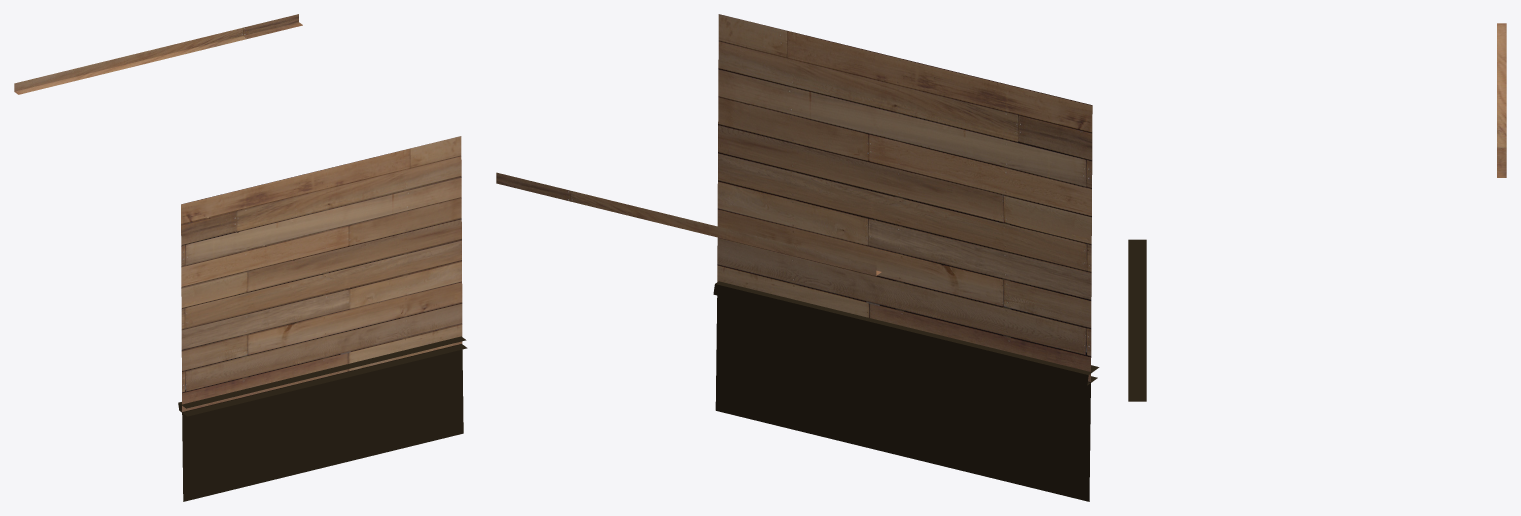
The model's file is wall_back 1.FBX.
3 renders of one model, left to right at view 1: azimuth 30°, elevation 25°; view 2: azimuth 150°, elevation 25°; view 3: azimuth 270°, elevation 25°, orthographic. The views are drawn at different scales.
Visible parts, largest first — view 1: wall_back; view 2: wall_back; view 3: wall_back.
Part boxes in pixels (bbox=[...]): wall_back: bbox=[14, 14, 467, 501]; wall_back: bbox=[496, 14, 1099, 501]; wall_back: bbox=[1128, 23, 1506, 401].
Size of the model in its own units: 100 by 100 by 103.
2 materials, 1 textured.
